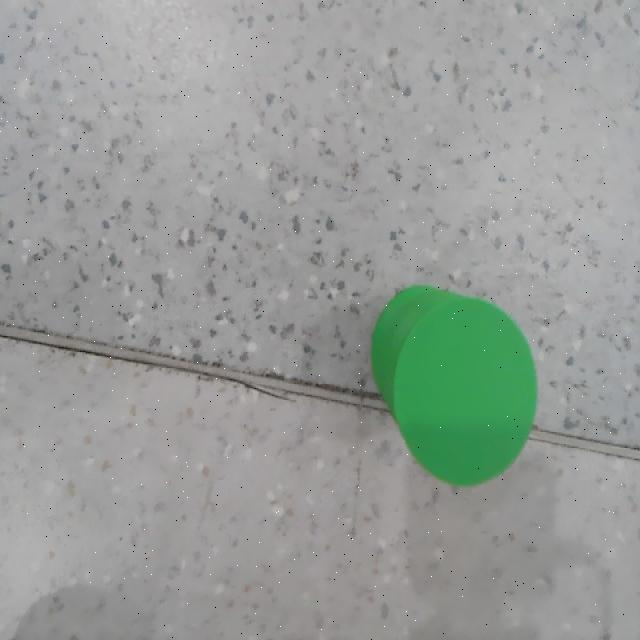g: (393, 296, 537, 486)
